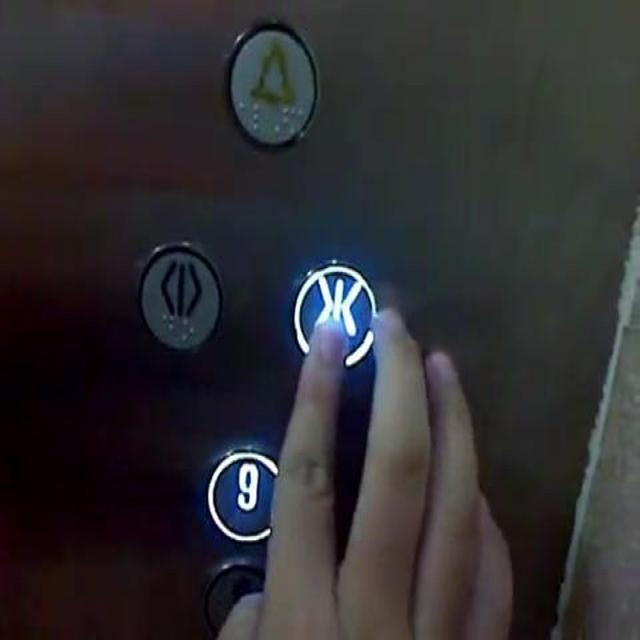9: (205, 445, 285, 544)
alarm: (220, 15, 319, 150)
close: (288, 254, 377, 370)
open: (135, 232, 223, 361)
